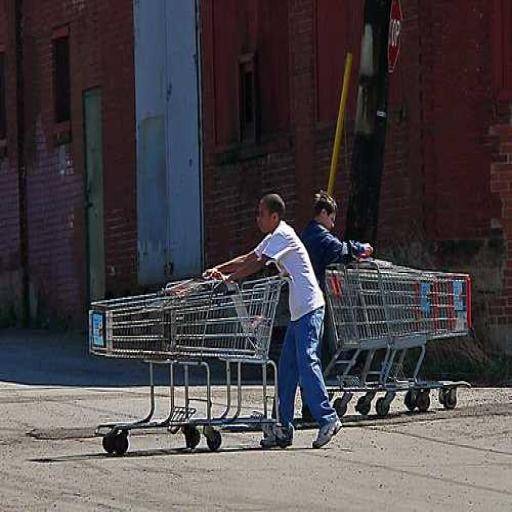shopping_cart: (88, 264, 224, 454), (170, 266, 292, 452), (323, 259, 432, 418), (431, 260, 476, 420)
